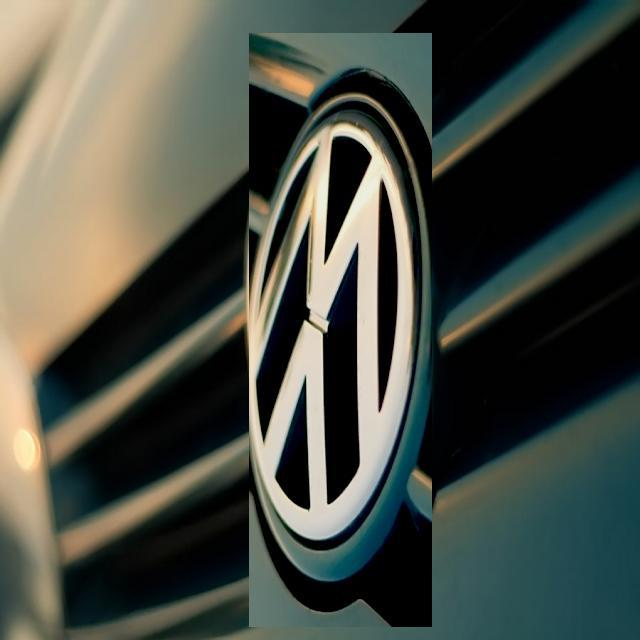volkswagen: (249, 33, 432, 627)
